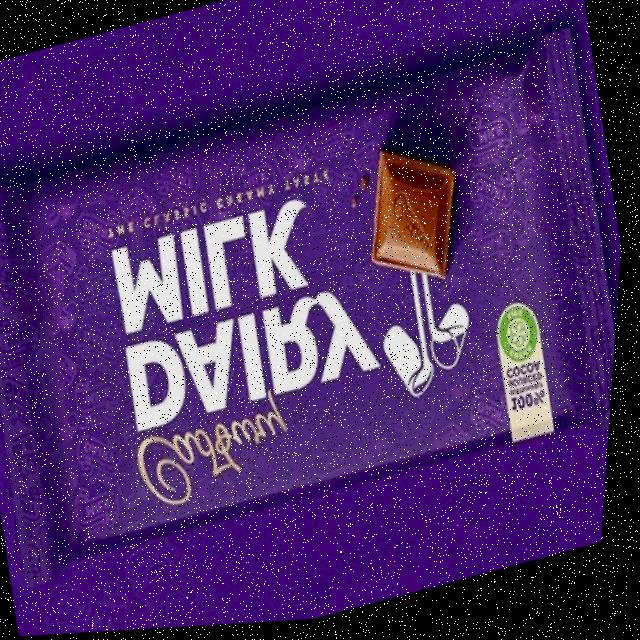cadbury: (0, 51, 625, 558)
